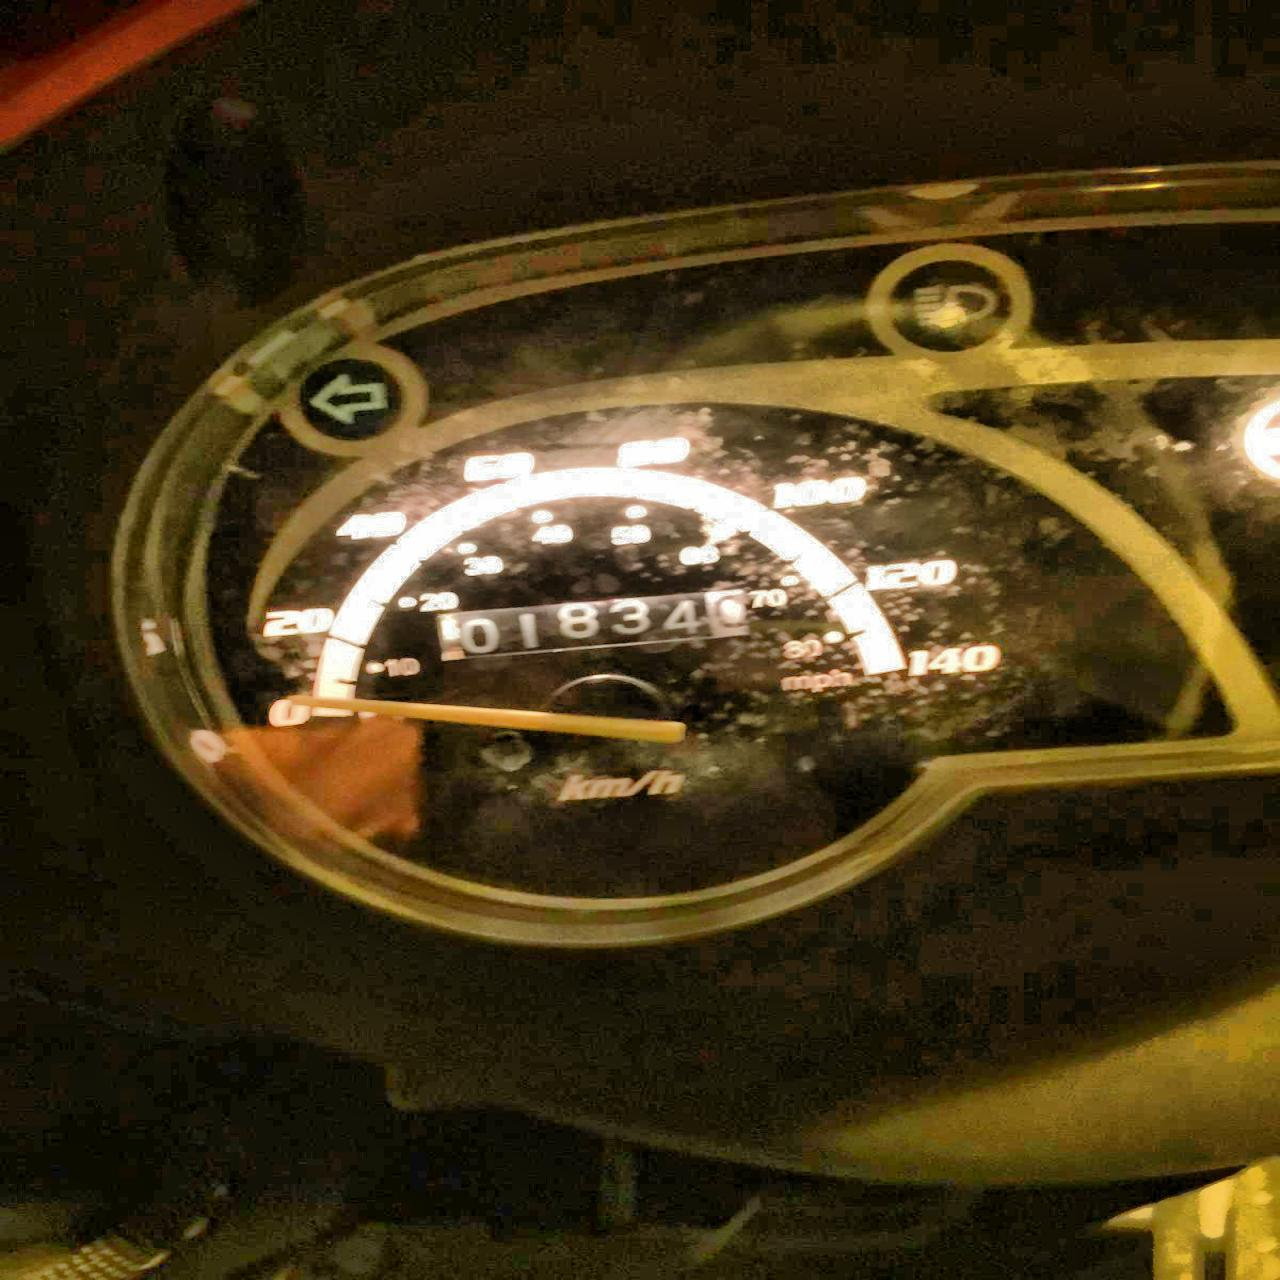0: (709, 593, 750, 644), (459, 614, 504, 655), (436, 590, 458, 610)
1: (516, 601, 540, 653)
3: (610, 594, 652, 635)
4: (660, 597, 704, 641)
7: (750, 587, 767, 610)
8: (554, 597, 600, 646)
odometer: (434, 583, 762, 659)
